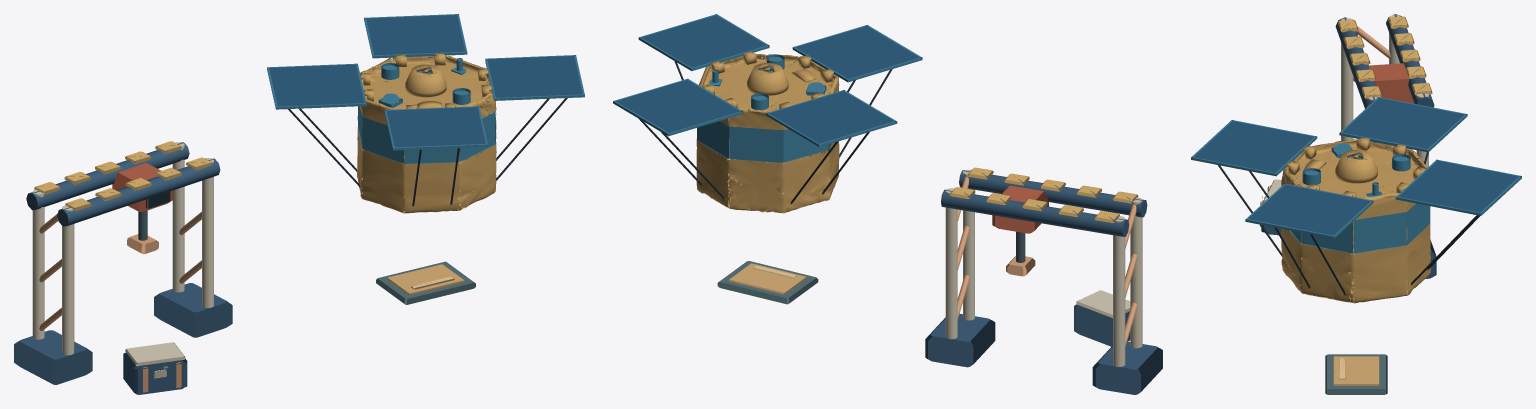
File: observador.obj
3 renders of one model, left to right at view 1: azimuth 30°, elevation 25°; view 2: azimuth 150°, elevation 25°; view 3: azimuth 270°, elevation 25°, orthographic. The views are drawn at different scales.
Parts seen in each view (by area): view 1: observador; view 2: observador; view 3: observador.
Boxes of the visible parts, x1=… form: observador: x1=14, y1=14, x2=584, y2=394; observador: x1=613, y1=14, x2=1162, y2=394; observador: x1=1191, y1=14, x2=1521, y2=394.
Bounding box in the file's own units: 1.68 × 0.6505 × 0.8807.
